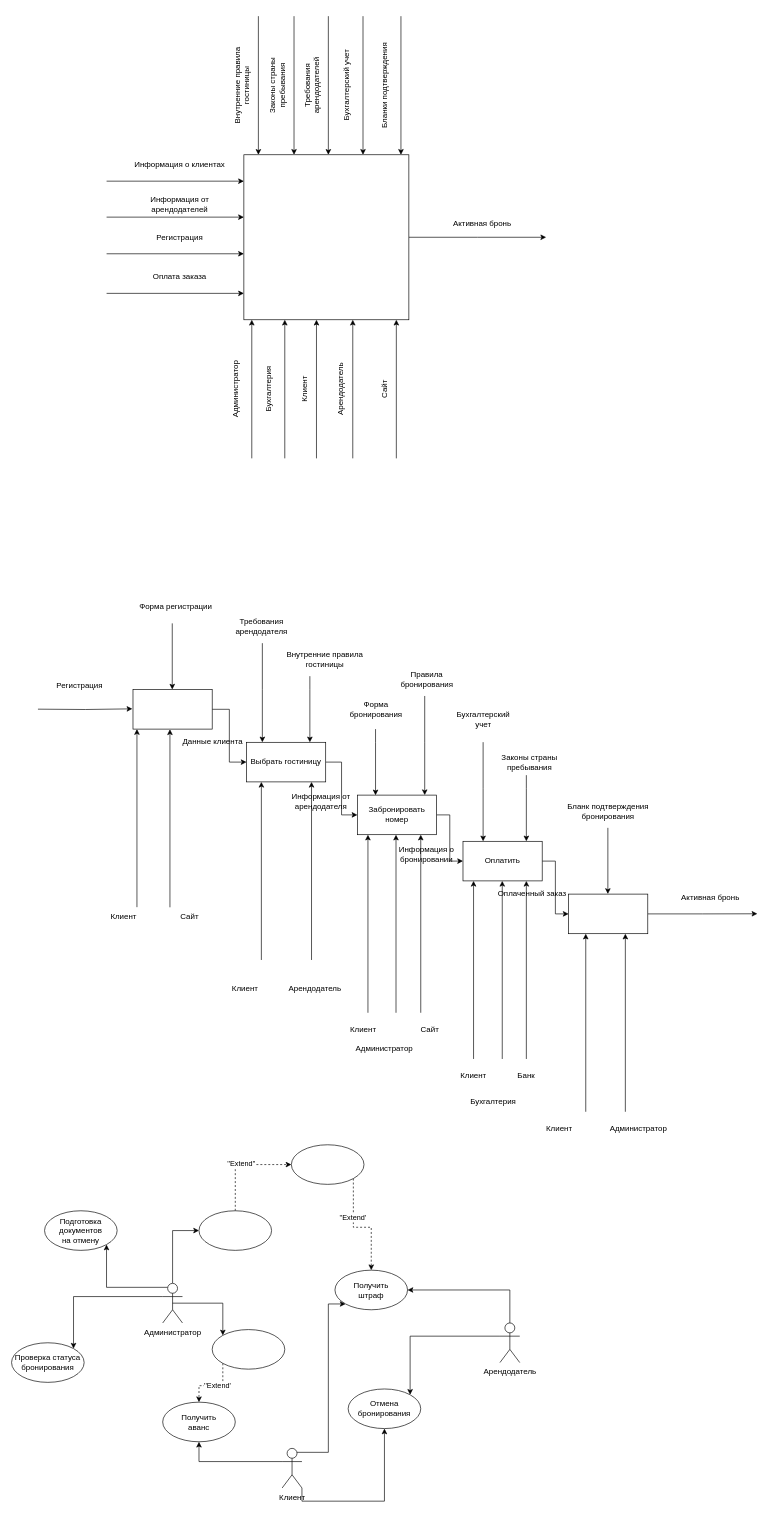
Some shapes in this 774 by 1518 pixel diagram are drawn without their labels. Here are the shapes that lost their labels. From the top down, the centre of each, then its label:
At (326,237): "Онлайн-бронирование гостиницы".
At (172,709): "Зарегистрировать аккаунт".
At (608,913): "Подтвердить бронь".
At (327,1164): "Штрафные санкции".
At (235,1230): "Подтверждение отмены".
At (248,1349): "Вернуть деньги".
